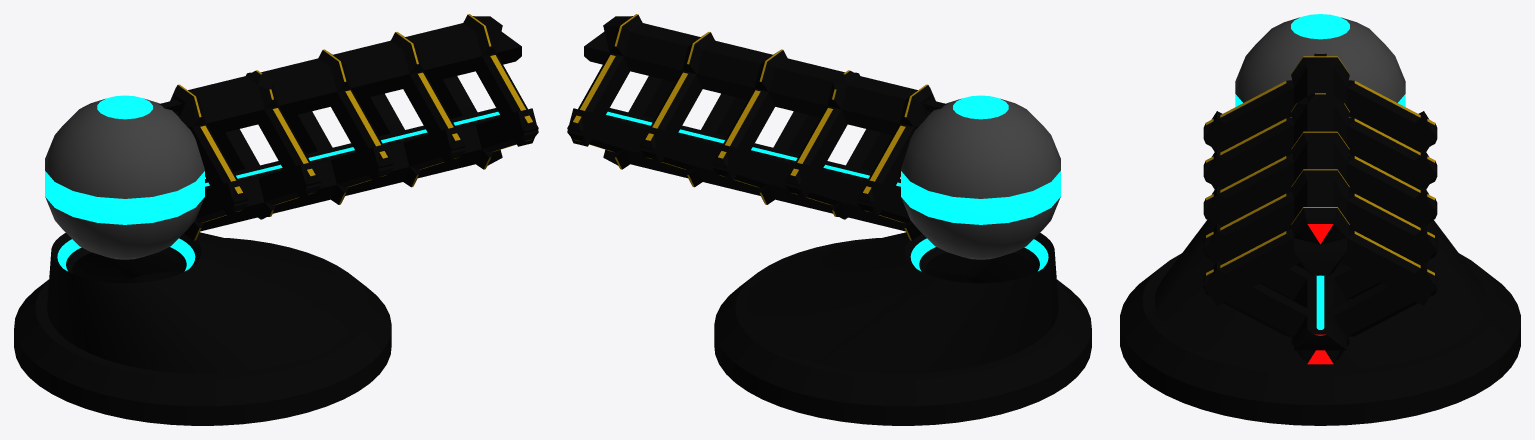
Rendered from turretThing.fbx.
The picture shows the model from 3 angles, left to right: view 1: azimuth 30°, elevation 25°; view 2: azimuth 150°, elevation 25°; view 3: azimuth 270°, elevation 25°; orthographic projection. The views are drawn at different scales.
Parts seen in each view (by area): view 1: turret_base, top_barrel, turret_body, bottom_barrel; view 2: turret_base, top_barrel, turret_body, bottom_barrel; view 3: turret_base, top_barrel, bottom_barrel, turret_body.
Part boxes in pixels (x1,y1,x2,y2): turret_base: (14,232,391,425); top_barrel: (159,14,538,217); turret_body: (45,95,204,259); bottom_barrel: (183,76,538,240); turret_base: (714,232,1091,425); top_barrel: (567,14,946,217); turret_body: (901,95,1060,259); bottom_barrel: (567,76,922,240); turret_base: (1120,220,1520,425); top_barrel: (1203,53,1437,305); bottom_barrel: (1203,111,1437,364); turret_body: (1235,14,1405,154).
Bounding box in the file's own units: 2050 × 1073 × 1397.
